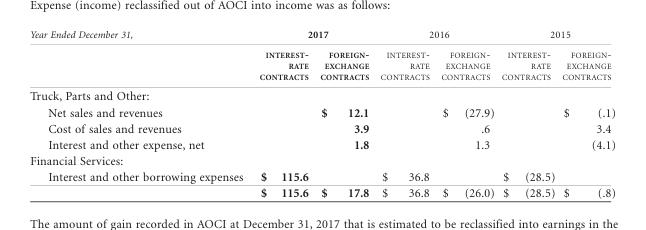table: (29, 28, 614, 199)
table column: (29, 28, 250, 199), (250, 28, 313, 199), (434, 28, 497, 199), (313, 28, 374, 199), (374, 28, 434, 199), (497, 28, 557, 199), (557, 28, 614, 199)
table column header: (29, 28, 614, 85)
table projected row header: (29, 85, 614, 103), (29, 152, 614, 168)
table row: (29, 43, 614, 85), (29, 85, 614, 103), (29, 119, 614, 136), (29, 103, 614, 119), (29, 136, 614, 152), (29, 152, 614, 168), (29, 168, 614, 184), (29, 28, 614, 43), (29, 184, 614, 199)
table spanning cell: (29, 28, 250, 85), (250, 28, 374, 43), (374, 28, 497, 43), (497, 28, 614, 43)
